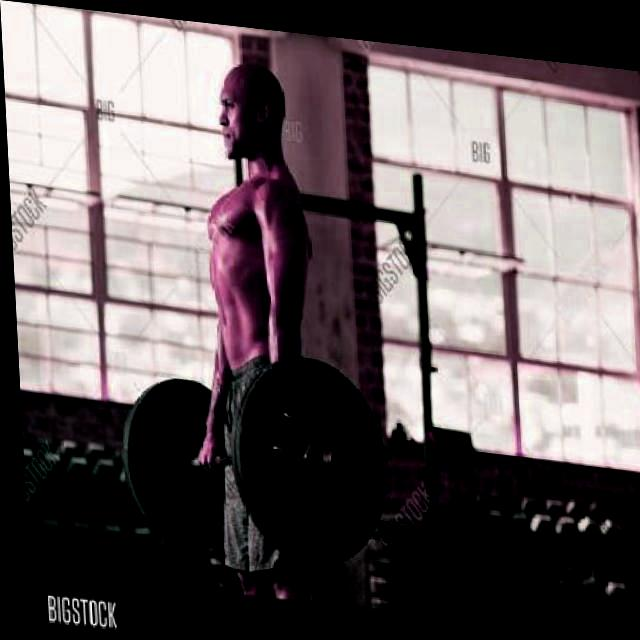barbell: (225, 340, 390, 570)
